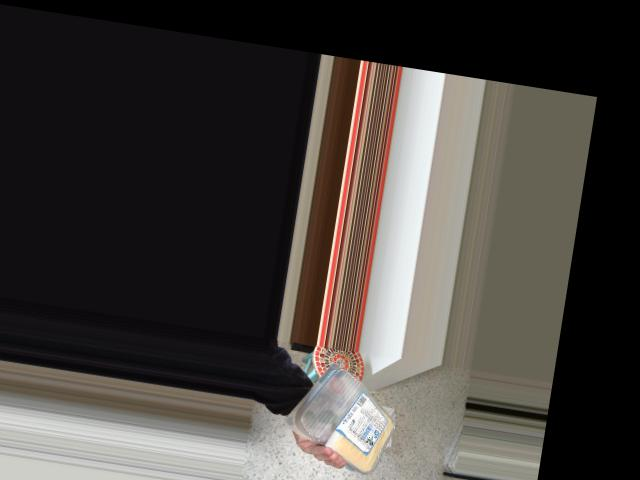cheese: (293, 357, 413, 467)
